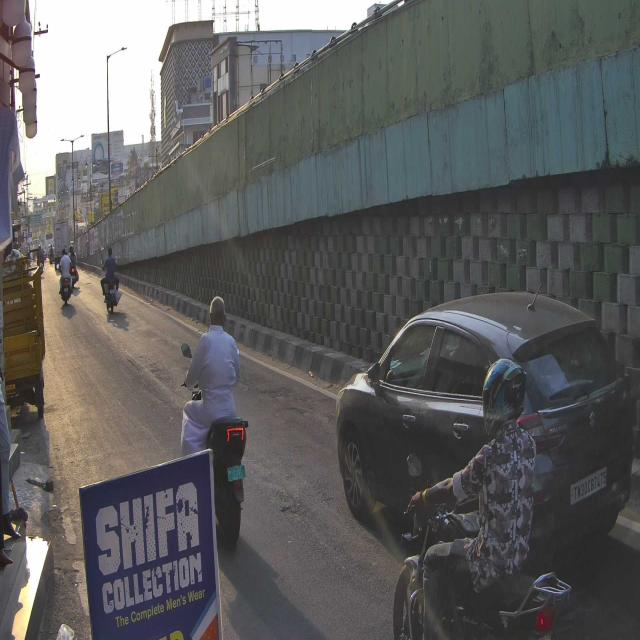single_rider: (394, 356, 569, 640), (180, 293, 250, 546)
